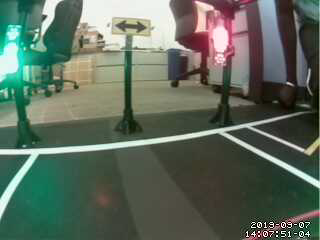Left_Right_sign: (113, 18, 154, 37)
Traffic_light_green: (3, 23, 17, 69)
Traffic_light_red: (210, 20, 227, 67)
